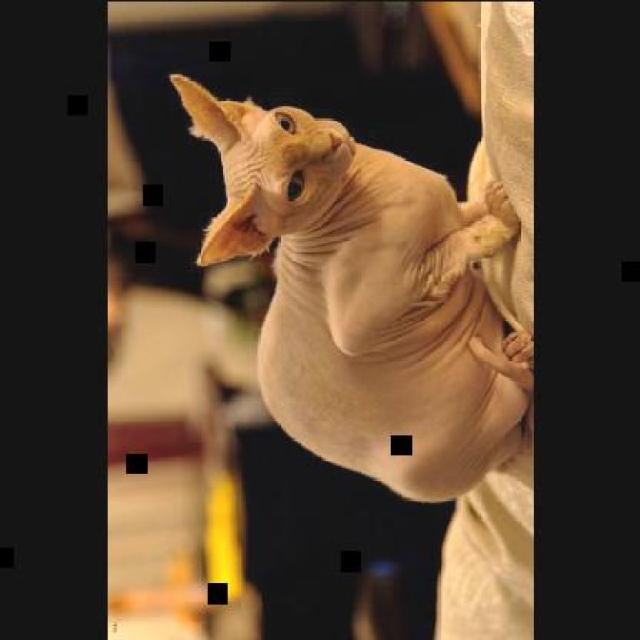unauthorized: (168, 70, 534, 504)
